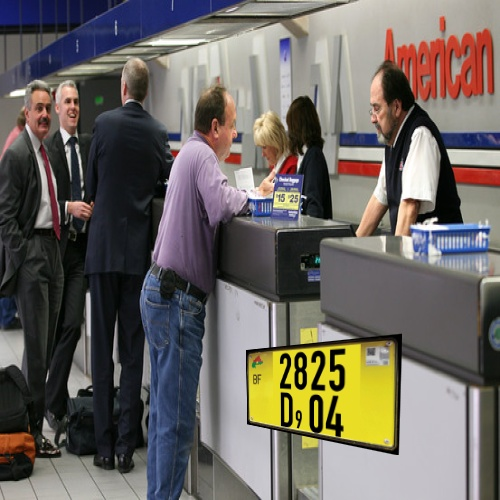plate: (235, 319, 414, 469)
